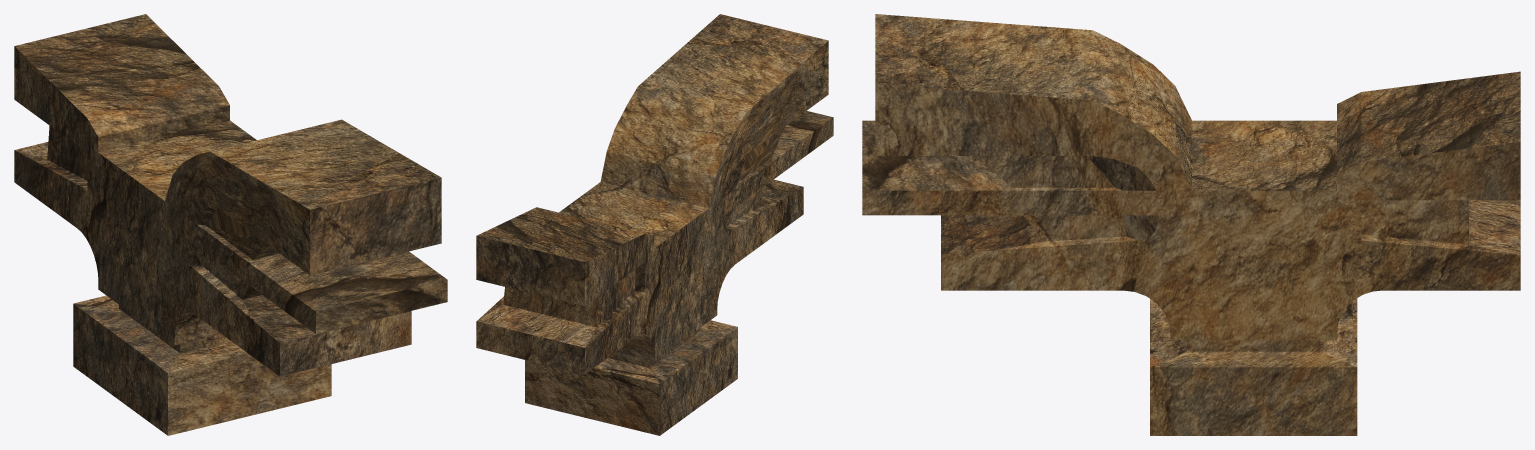
The model's file is Totem.fbx.
The picture shows the model from 3 angles, left to right: view 1: azimuth 30°, elevation 25°; view 2: azimuth 150°, elevation 25°; view 3: azimuth 270°, elevation 25°; orthographic projection. The views are drawn at different scales.
Parts seen in each view (by area): view 1: Cube; view 2: Cube; view 3: Cube.
Boxes of the visible parts, x1,y1,x2,y2 form: Cube: (14, 14, 447, 435); Cube: (476, 14, 833, 435); Cube: (862, 14, 1520, 435).
Size of the model in its own units: 86.46 by 159 by 276.
